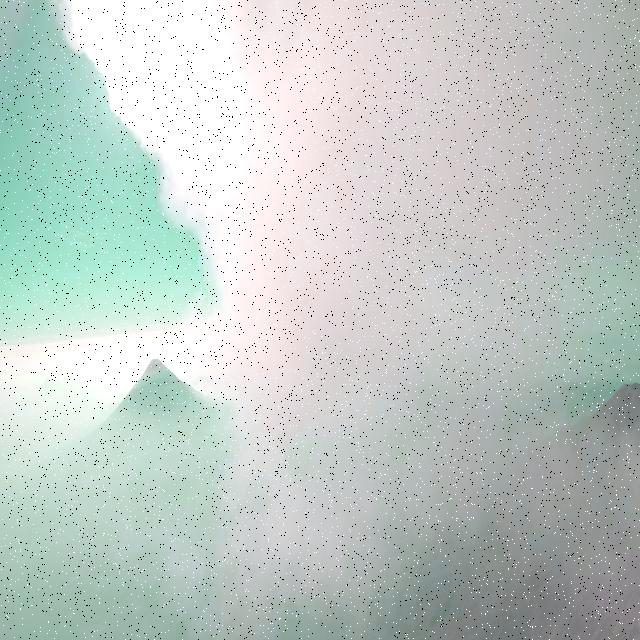Plume: (66, 0, 640, 609)
